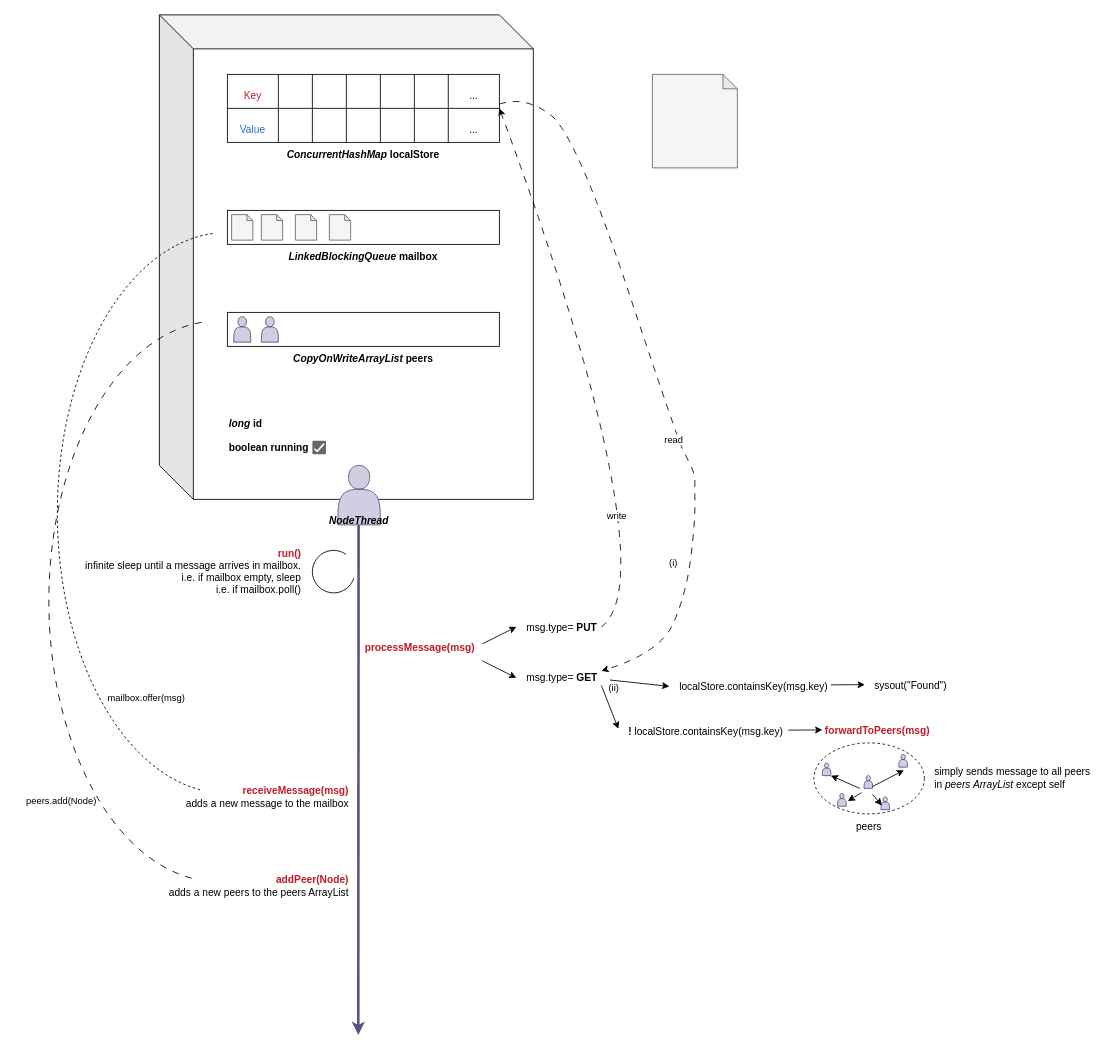
Some shapes in this 1108 by 1057 pixel diagram are drawn without their labels. Here are the shapes that lost their labels. From the top down, the centre of each, then its label:
At point (694, 121): "Message Type {PUT, GET} Key Value Origin Hops".
At point (868, 778): "self".
